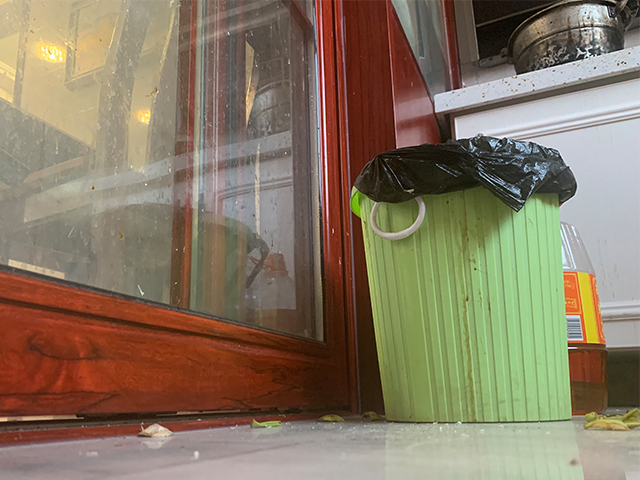trashcan: (349, 135, 577, 424)
